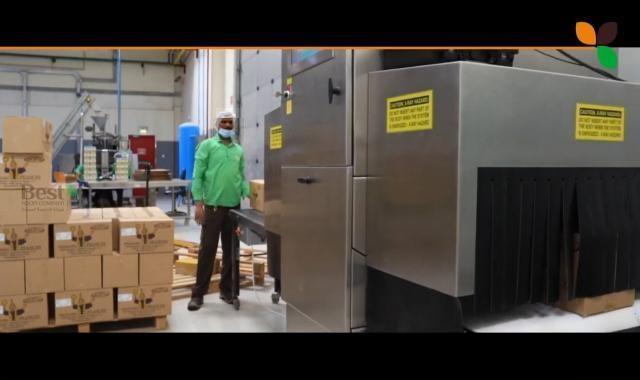gloves: (216, 108, 240, 120)
no_apron: (192, 198, 214, 232)
no_hairnet: (213, 119, 244, 141)
